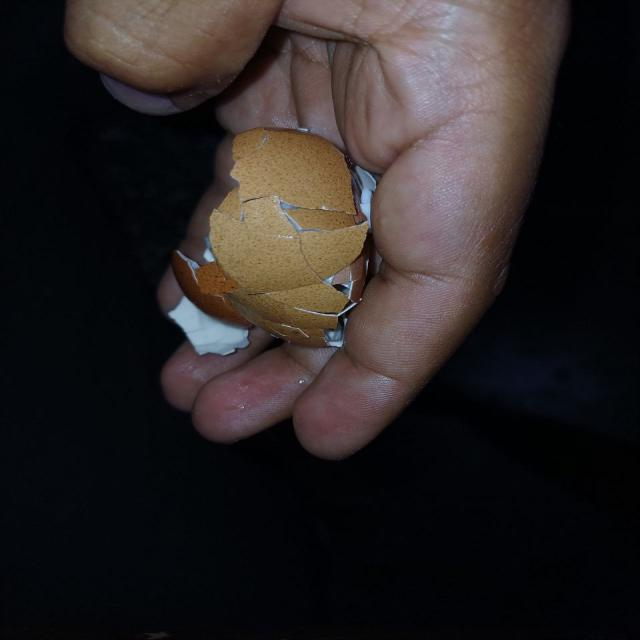organic: (168, 126, 374, 358)
